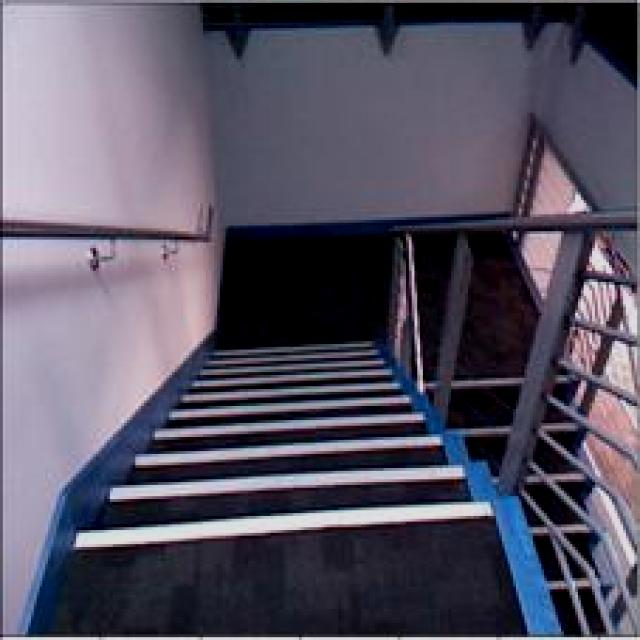stair: (68, 352, 498, 563)
